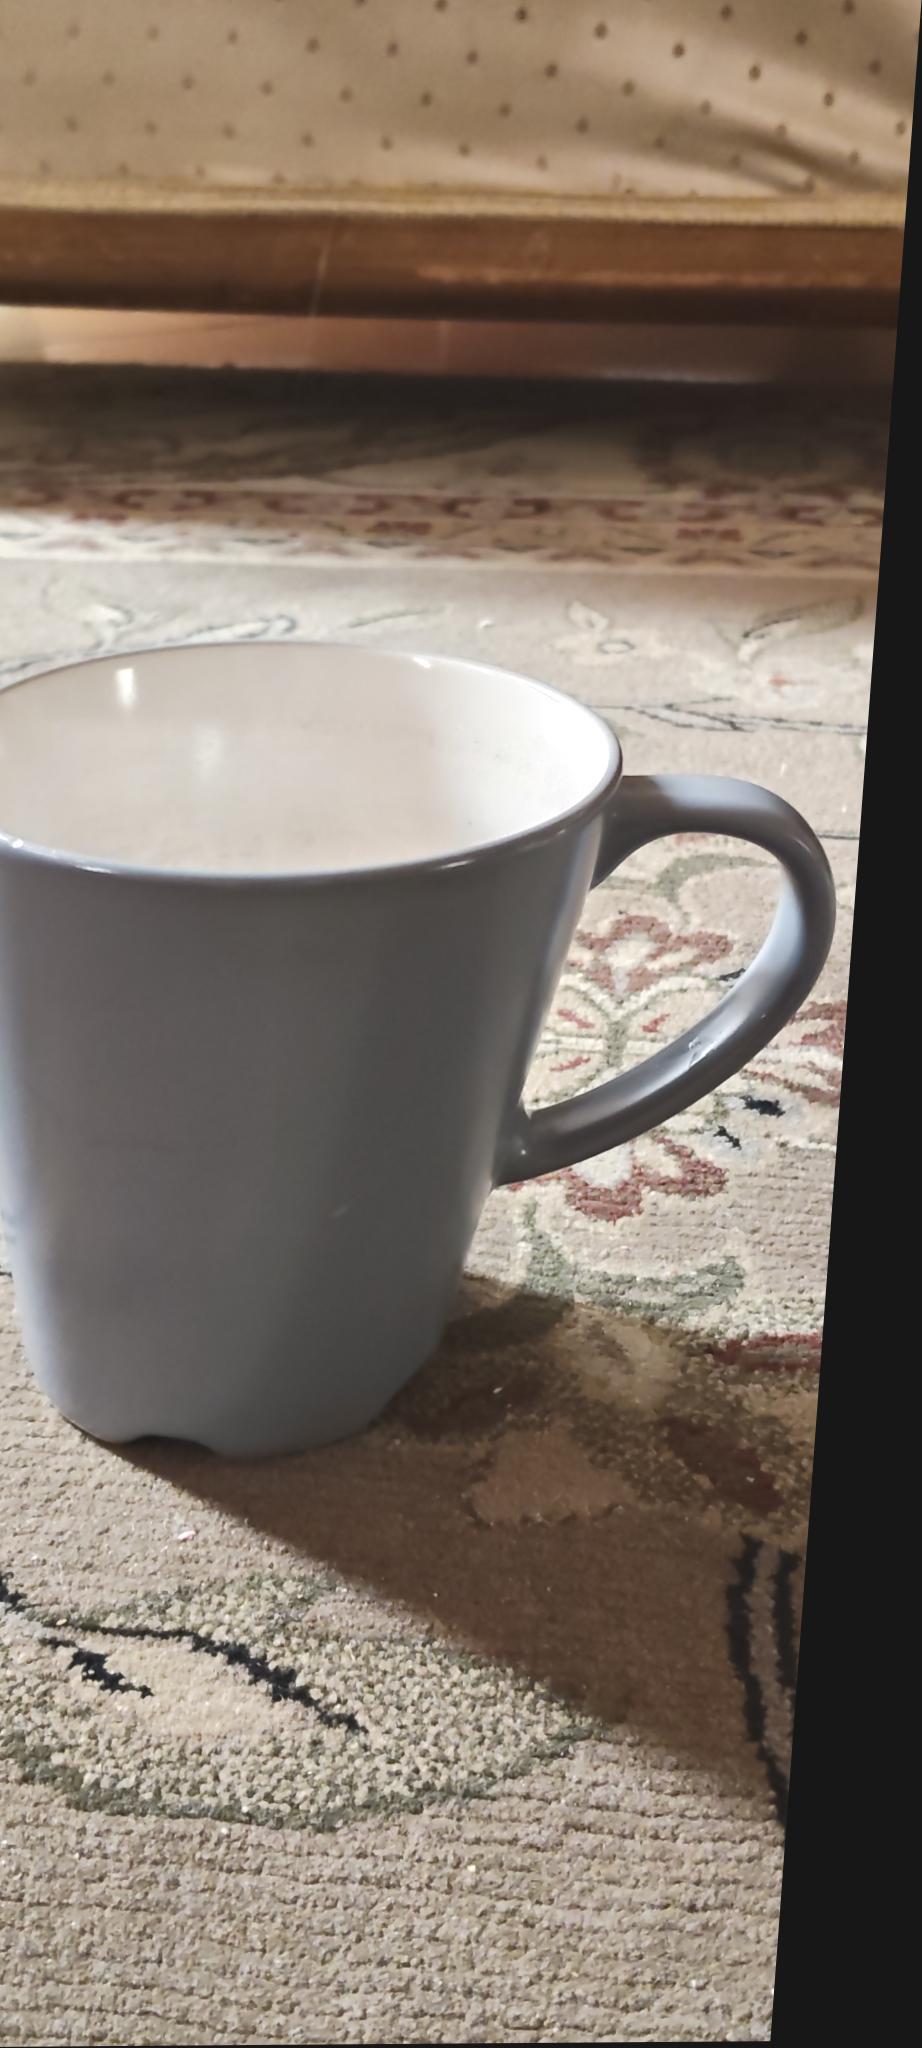Mug: (0, 629, 853, 1457)
